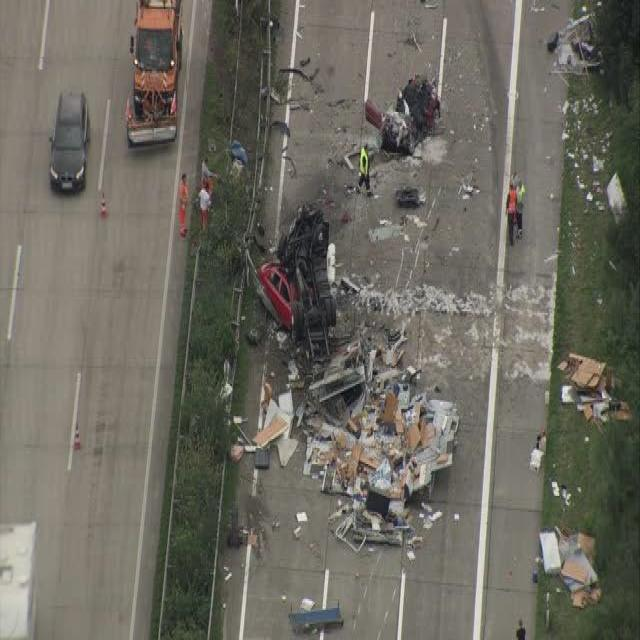traffic_incident: (252, 178, 454, 528), (372, 34, 452, 169)
